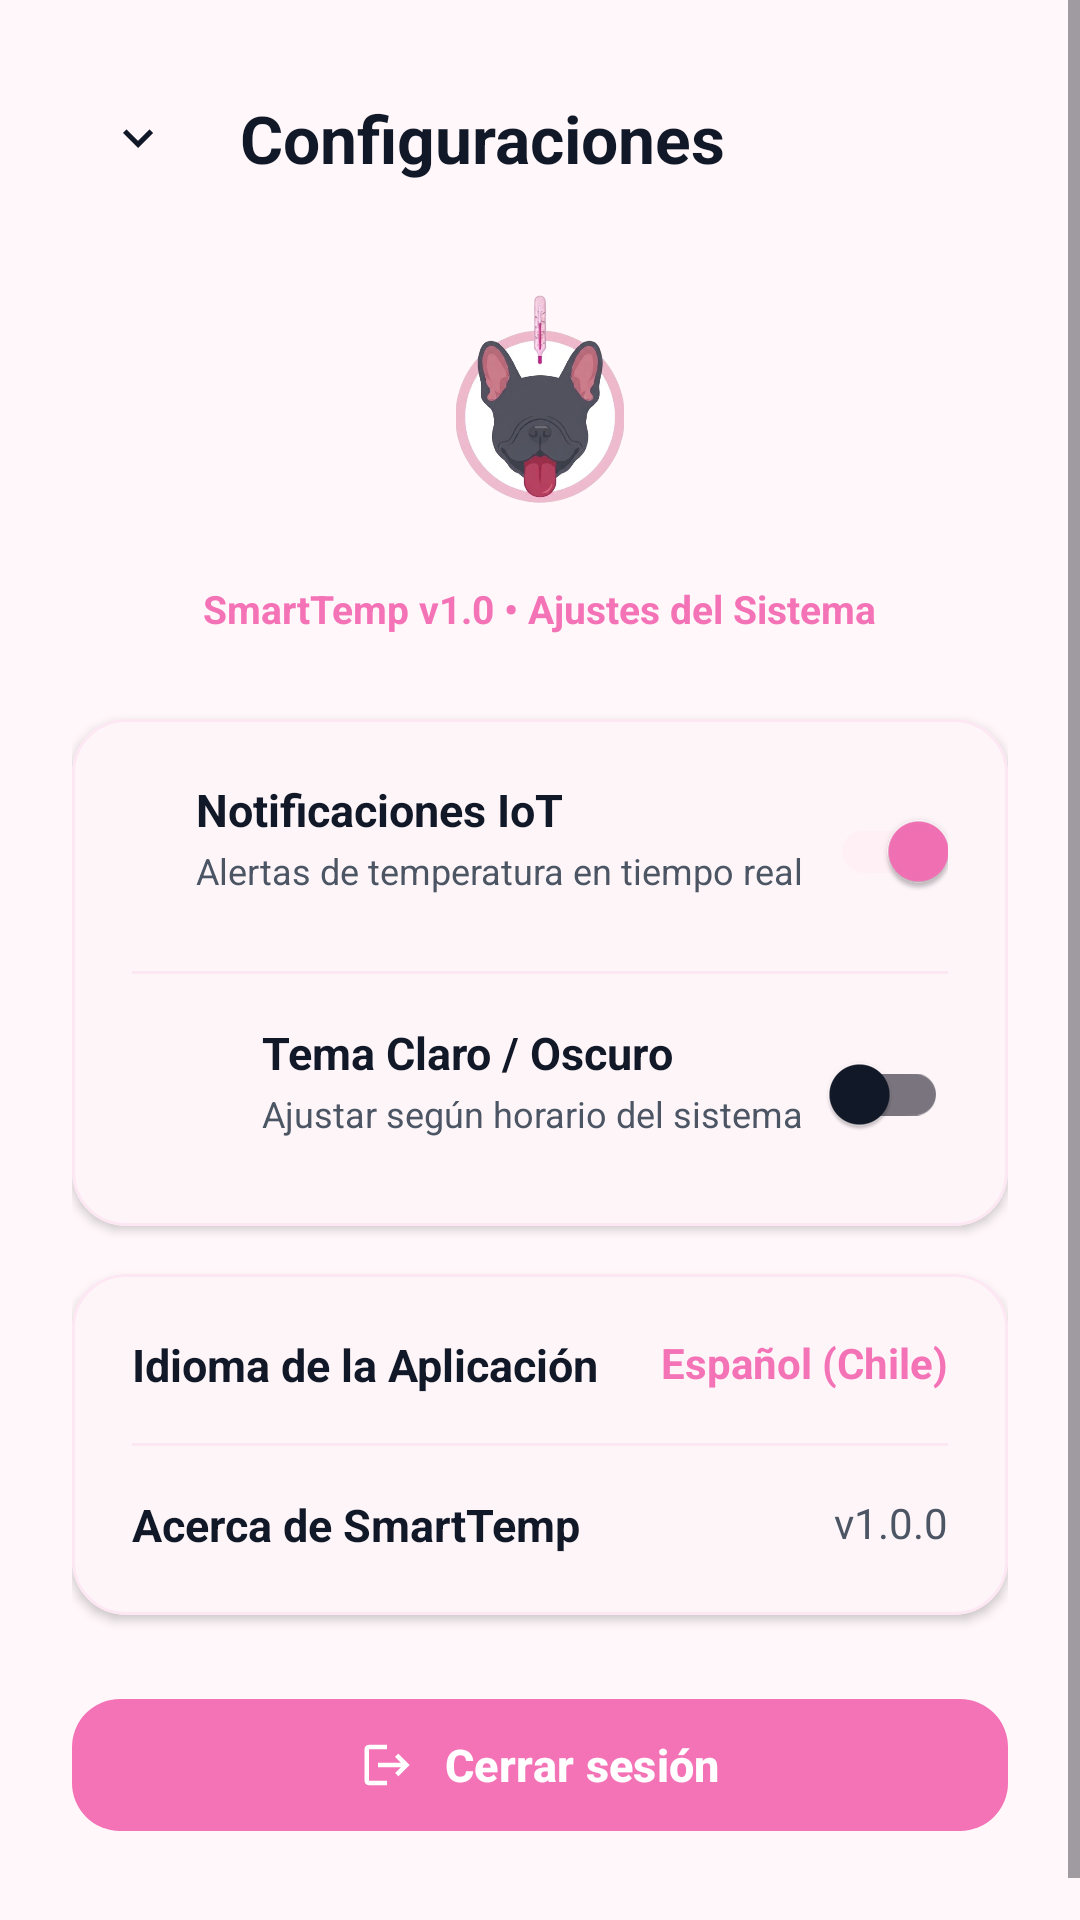

Icon click points for this 1080×1920 phone screenshot, format point (x, y):
expand more: point (138, 138)
imagenapp: point (540, 399)
